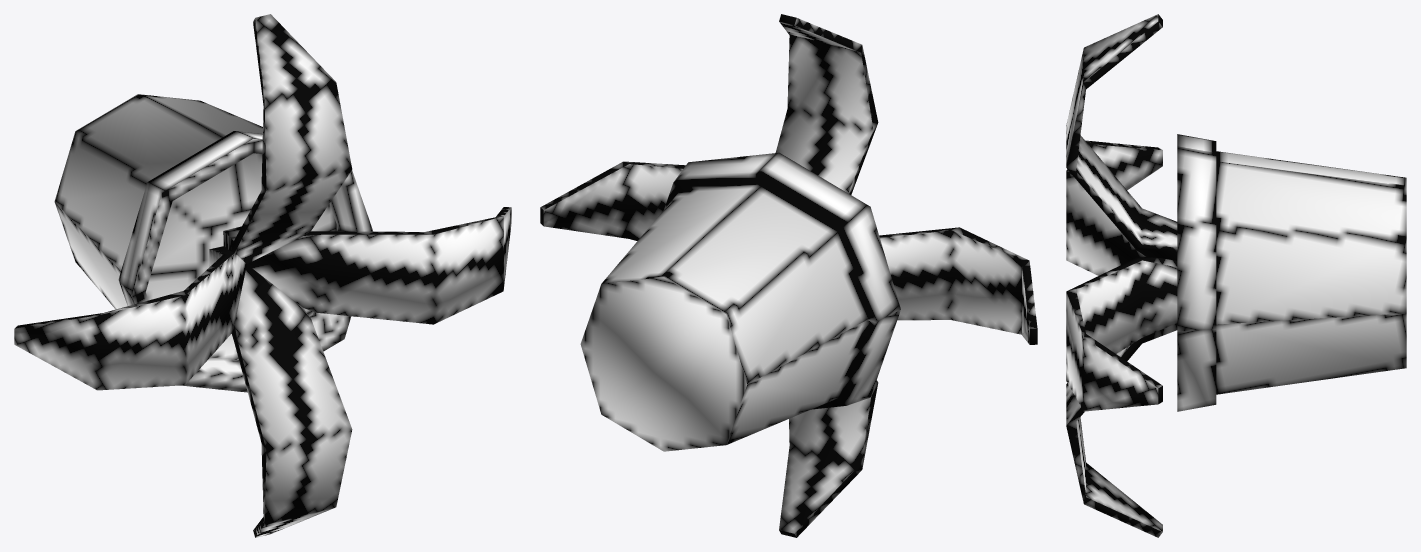
File: Plant 1.obj
3 views of the same model, side by side, from view 1: azimuth 30°, elevation 25°; view 2: azimuth 150°, elevation 25°; view 3: azimuth 270°, elevation 25° (orthographic).
Visible parts, largest first — view 1: Cube2, Cube2_sep4; view 2: Cube2_sep4, Cube2; view 3: Cube2_sep4, Cube2.
Part boxes in pixels (x1=…): Cube2: x1=14, y1=14, x2=511, y2=537; Cube2_sep4: x1=54, y1=94, x2=373, y2=392; Cube2_sep4: x1=580, y1=152, x2=900, y2=451; Cube2: x1=540, y1=14, x2=1037, y2=537; Cube2_sep4: x1=1177, y1=134, x2=1406, y2=411; Cube2: x1=1066, y1=14, x2=1177, y2=537.
Size of the model in its own units: 4.66 by 4.66 by 2.79.
1 material, 1 textured.
